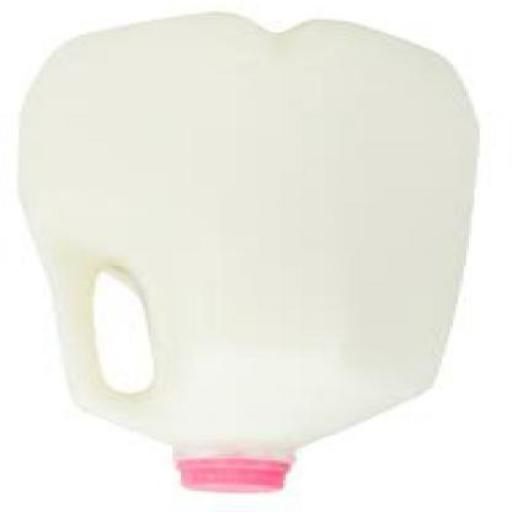plastic: (14, 12, 476, 496), (173, 458, 293, 495)
